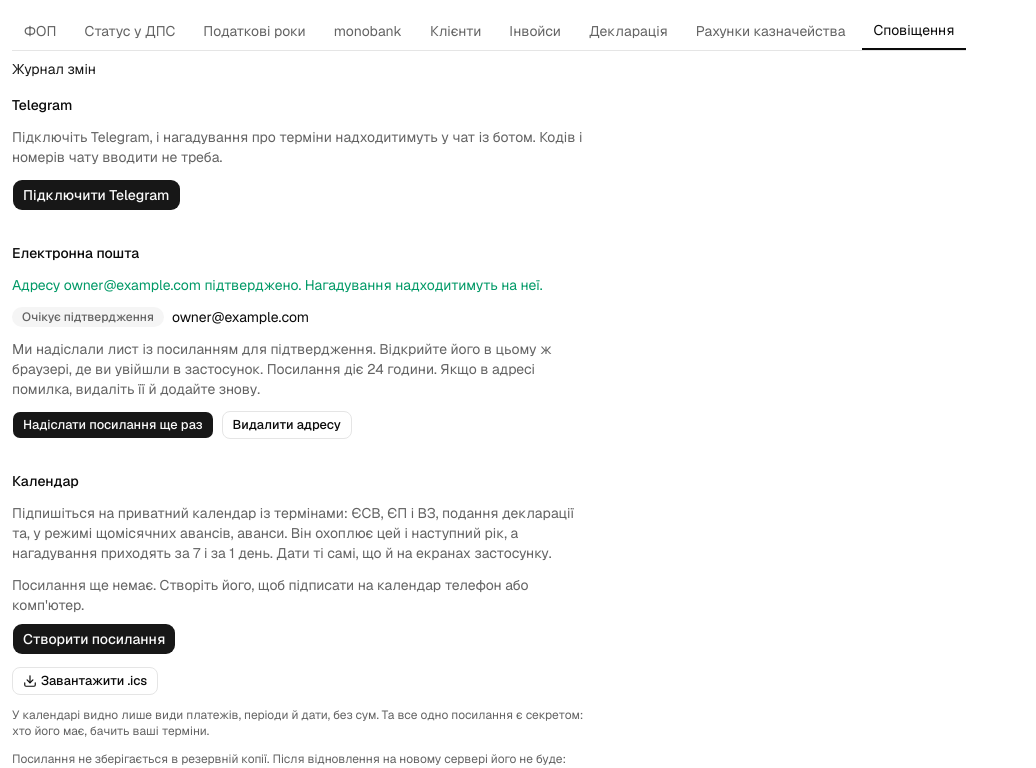
it: EmailChannel › the confirmation link › spends a token once even after the owner switches settings tabs and comes back
Check: the message shows "Адресу owner@example.com підтверджено", box [12,276,542,294]
Click the tab "Рахунки казначейства" at (771, 31), box [684,12,858,50]
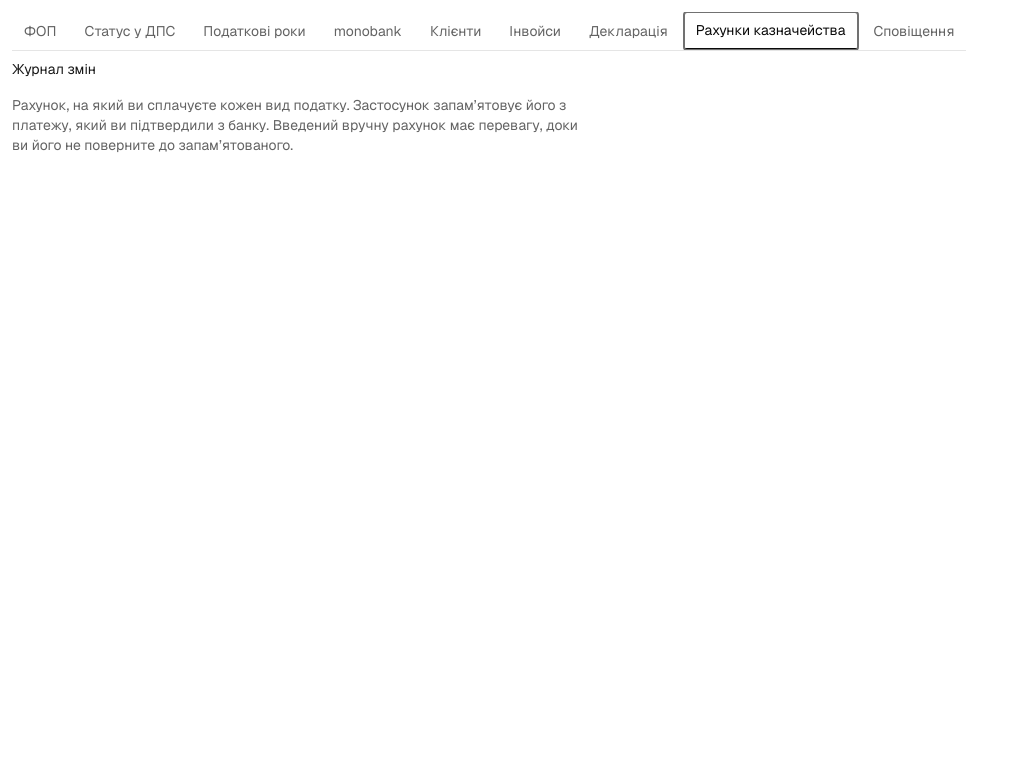
Click the tab "Сповіщення" at (914, 31), box [862,12,966,50]
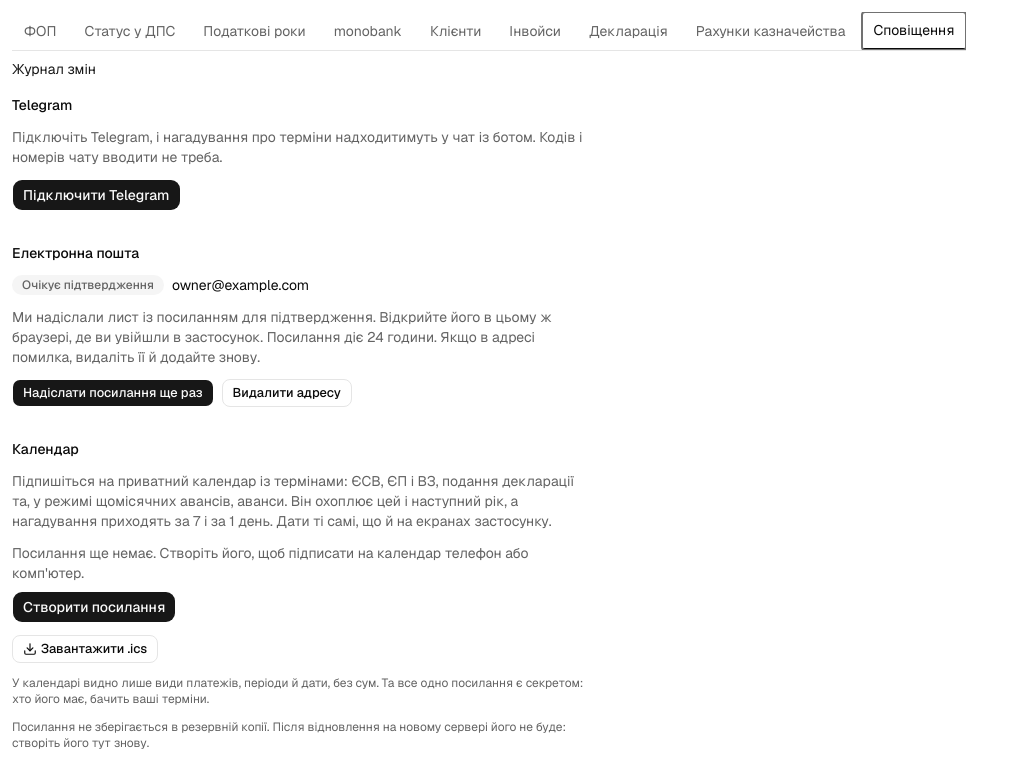
Check: the message "Адресу owner@example.com підтверджено. Нагадування надходитимуть на неї." is not shown
Check: the text "Очікує підтвердження" is shown, box [12,275,164,295]
